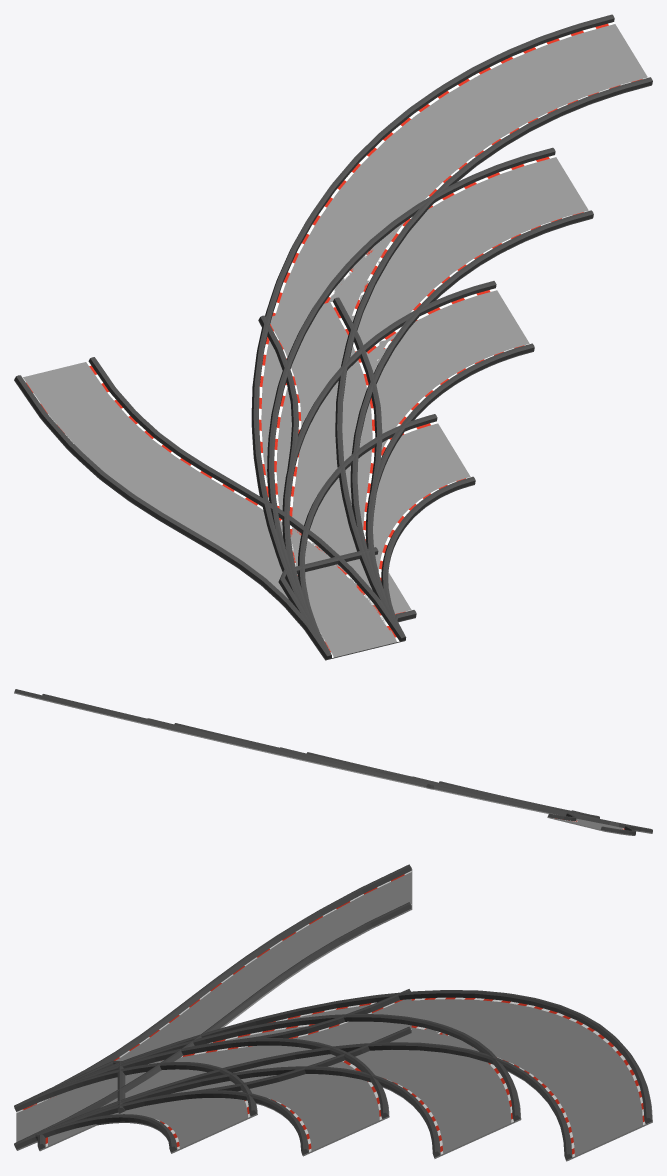
Rendered from diagonalRoads.glb.
The picture shows the model from 3 angles, top to bottom: view 1: azimuth 30°, elevation 25°; view 2: azimuth 150°, elevation 25°; view 3: azimuth 270°, elevation 25°; orthographic projection. The views are drawn at different scales.
Visible parts, largest first — view 1: TurnLong3Diag, TurnSLeftDiag, TurnLong2Diag, TurnSRightDiag, TurnLongDiag, TurnShortDiag, TurnSharpDiag; view 2: TurnLong3Diag, TurnLong2Diag, TurnSLeftDiag, TurnLongDiag, TurnShortDiag, TurnSRightDiag; view 3: TurnLong3Diag, TurnSLeftDiag, TurnLong2Diag, TurnSRightDiag, TurnLongDiag, TurnShortDiag, TurnSharpDiag.
Boxes of the visible parts, x1=… form: TurnLong3Diag: x1=251, y1=14, x2=652, y2=643; TurnSLeftDiag: x1=14, y1=357, x2=403, y2=660; TurnLong2Diag: x1=267, y1=147, x2=593, y2=646; TurnSRightDiag: x1=258, y1=297, x2=405, y2=657; TurnLongDiag: x1=282, y1=281, x2=534, y2=638; TurnShortDiag: x1=298, y1=414, x2=475, y2=645; TurnSharpDiag: x1=278, y1=547, x2=416, y2=660; TurnLong3Diag: x1=14, y1=689, x2=635, y2=826; TurnLong2Diag: x1=147, y1=718, x2=609, y2=821; TurnSLeftDiag: x1=547, y1=812, x2=652, y2=835; TurnLongDiag: x1=280, y1=747, x2=567, y2=812; TurnShortDiag: x1=413, y1=776, x2=625, y2=824; TurnSRightDiag: x1=376, y1=771, x2=604, y2=820; TurnLong3Diag: x1=28, y1=990, x2=652, y2=1161; TurnSLeftDiag: x1=14, y1=864, x2=412, y2=1143; TurnLong2Diag: x1=35, y1=1014, x2=521, y2=1158; TurnSRightDiag: x1=14, y1=989, x2=411, y2=1150; TurnLongDiag: x1=30, y1=1038, x2=389, y2=1156; TurnShortDiag: x1=31, y1=1062, x2=257, y2=1153; TurnSharpDiag: x1=19, y1=1060, x2=125, y2=1151.
Bounding box in the file's own units: 117 × 43.89 × 86.79.
